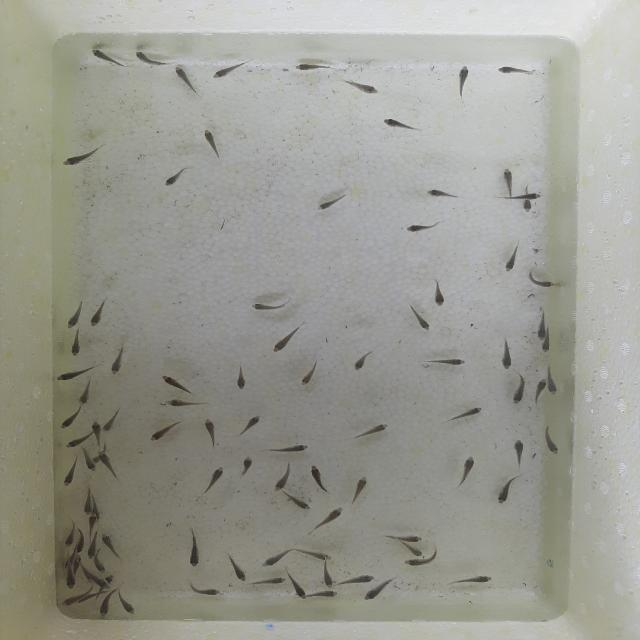fingerling: (267, 321, 313, 354), (60, 141, 109, 169), (348, 419, 392, 444), (448, 62, 474, 104), (196, 463, 229, 496), (211, 56, 253, 81), (198, 126, 223, 167), (161, 161, 193, 192), (507, 369, 533, 407), (146, 418, 184, 444), (444, 571, 496, 590), (499, 240, 526, 276), (86, 46, 130, 68), (442, 404, 486, 426), (401, 217, 451, 236), (337, 75, 380, 97), (492, 61, 539, 81), (297, 357, 327, 388), (375, 116, 421, 136), (348, 472, 371, 512), (494, 473, 522, 505), (182, 526, 202, 570), (421, 184, 464, 204), (507, 434, 530, 471), (348, 346, 379, 373), (289, 59, 335, 77), (311, 191, 350, 212), (235, 412, 263, 441), (173, 66, 200, 96), (456, 452, 479, 487), (88, 293, 110, 329), (258, 441, 313, 455), (132, 49, 170, 69), (305, 461, 328, 494), (54, 363, 96, 381), (316, 505, 344, 532), (160, 372, 194, 394), (538, 422, 560, 456), (408, 307, 435, 334), (522, 267, 555, 289), (260, 547, 294, 568), (428, 277, 451, 308), (62, 298, 84, 330), (57, 406, 86, 430), (201, 414, 220, 450), (161, 396, 213, 409), (272, 461, 292, 494), (247, 298, 292, 312), (284, 493, 315, 513), (250, 574, 288, 590), (60, 458, 80, 488), (109, 344, 127, 377), (498, 334, 514, 371), (358, 584, 389, 603), (102, 405, 122, 434), (423, 356, 470, 368), (499, 162, 517, 193), (296, 547, 333, 562), (287, 574, 308, 600), (62, 432, 94, 449), (230, 551, 247, 583), (75, 378, 93, 406), (388, 530, 424, 544), (534, 376, 547, 413), (234, 361, 250, 391), (100, 532, 119, 556), (187, 585, 221, 598), (319, 563, 336, 588), (399, 555, 429, 569), (66, 332, 82, 358), (118, 594, 136, 616), (535, 311, 548, 341), (546, 363, 558, 395), (347, 572, 379, 584), (239, 452, 253, 478), (97, 595, 113, 617), (61, 523, 75, 548), (82, 486, 94, 514), (83, 450, 97, 472), (515, 190, 542, 201), (403, 545, 424, 558), (308, 590, 340, 598), (63, 574, 77, 590), (61, 595, 80, 606), (519, 200, 535, 213), (538, 341, 554, 354), (95, 578, 111, 590), (97, 451, 111, 464), (85, 544, 96, 560), (88, 513, 98, 530), (90, 419, 102, 433), (92, 561, 106, 573), (105, 574, 114, 583)
